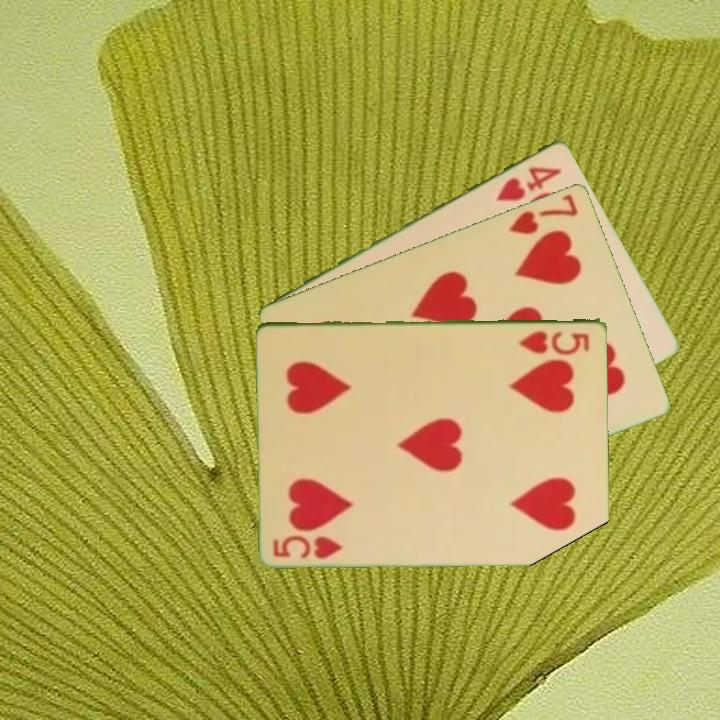4h: (492, 162, 565, 204)
5h: (516, 326, 592, 356), (270, 531, 345, 561)
7h: (505, 190, 581, 237)
